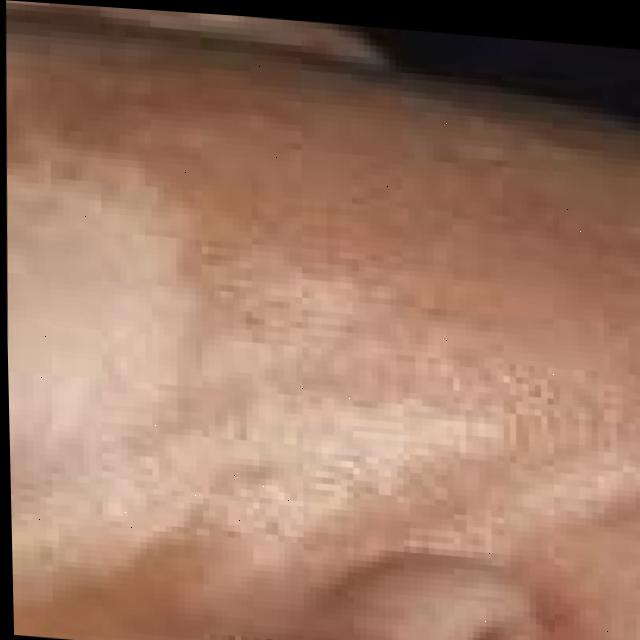Melasma: (15, 20, 640, 584)
